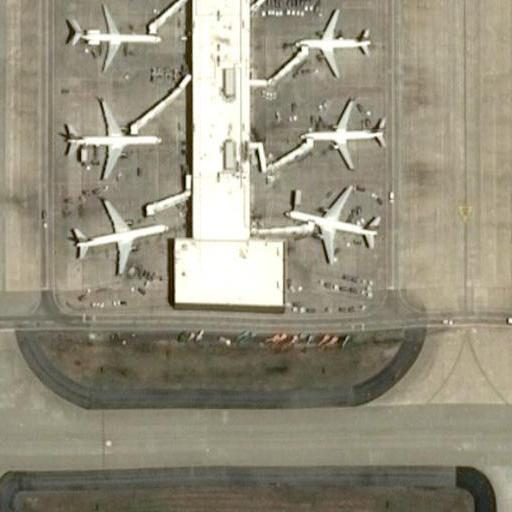Aircraft: (57, 92, 161, 178), (68, 194, 166, 274), (283, 184, 381, 263), (57, 0, 162, 70), (296, 95, 391, 172), (288, 2, 377, 80)
